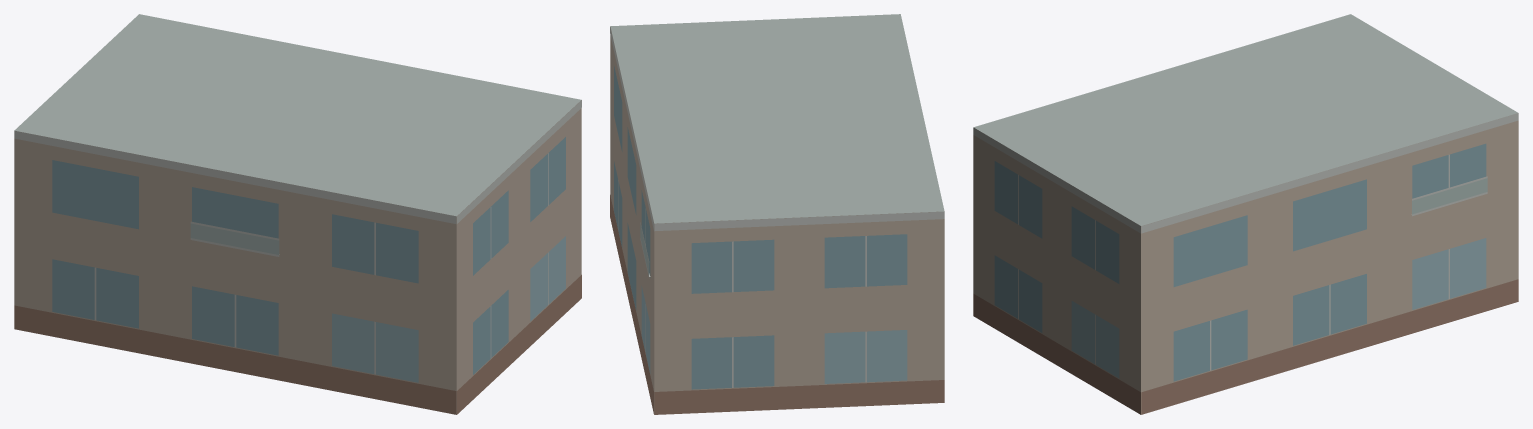
File: survey-upis-32935932.glb
3 views of the same model, side by side, from view 1: azimuth 30°, elevation 25°; view 2: azimuth 150°, elevation 25°; view 3: azimuth 270°, elevation 25° (orthographic). The views are drawn at different scales.
Visible parts, largest first — view 1: survey-upis-32935932.tmp; view 2: survey-upis-32935932.tmp; view 3: survey-upis-32935932.tmp.
Part boxes in pixels (x1,y1,x2,y2): survey-upis-32935932.tmp: (14, 14, 581, 414); survey-upis-32935932.tmp: (610, 14, 944, 414); survey-upis-32935932.tmp: (973, 14, 1518, 414).
Bounding box in the file's own units: 14.71 × 6.1 × 15.98.
